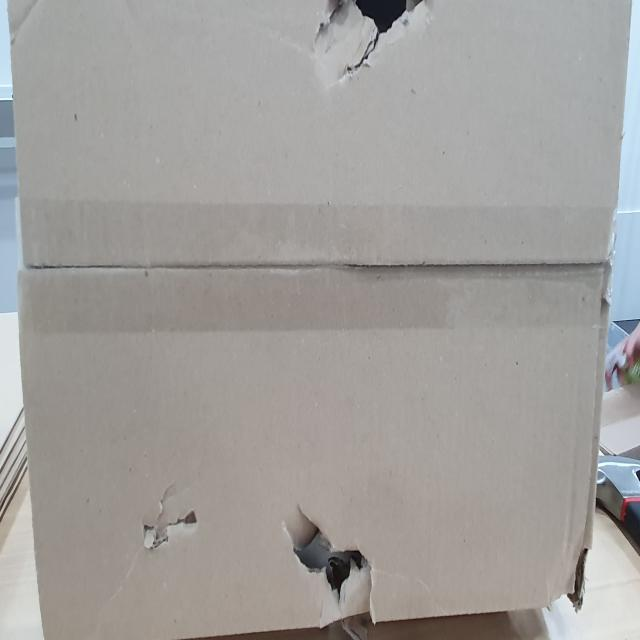hole: (288, 504, 379, 596), (112, 488, 213, 556), (327, 0, 426, 42)
